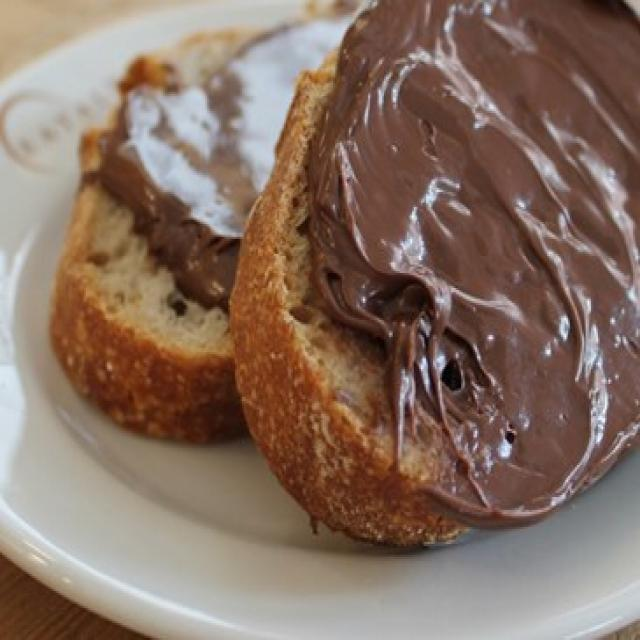Spread: (303, 2, 639, 533), (111, 11, 360, 293)
